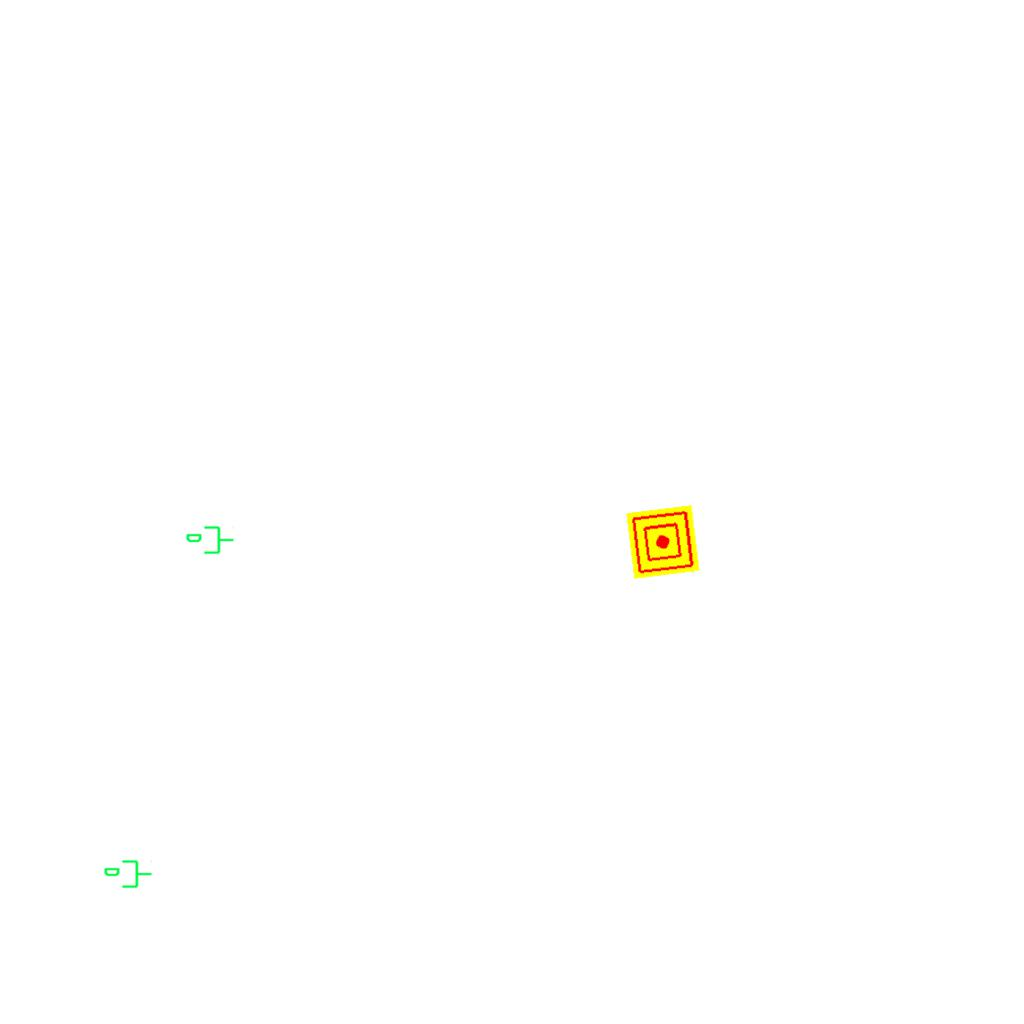Datenanschluss_einfach: (185, 524, 235, 558), (103, 858, 153, 892)
NAM-Nichtautomatischer_Melder: (626, 505, 700, 579)
